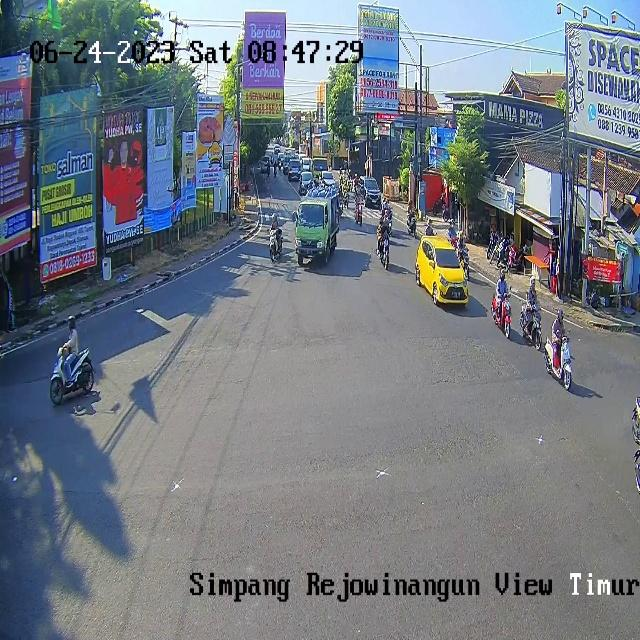bus: (50, 346, 94, 405), (545, 335, 572, 389), (521, 302, 541, 351), (492, 292, 511, 336), (270, 227, 282, 261), (378, 236, 390, 269), (406, 211, 418, 237), (461, 246, 470, 275), (355, 200, 364, 227), (452, 235, 459, 250)
motorcycle: (415, 235, 468, 307), (356, 176, 380, 207), (299, 171, 314, 192), (288, 158, 301, 180), (319, 170, 336, 186)
truck: (295, 192, 339, 265), (312, 156, 328, 182)
